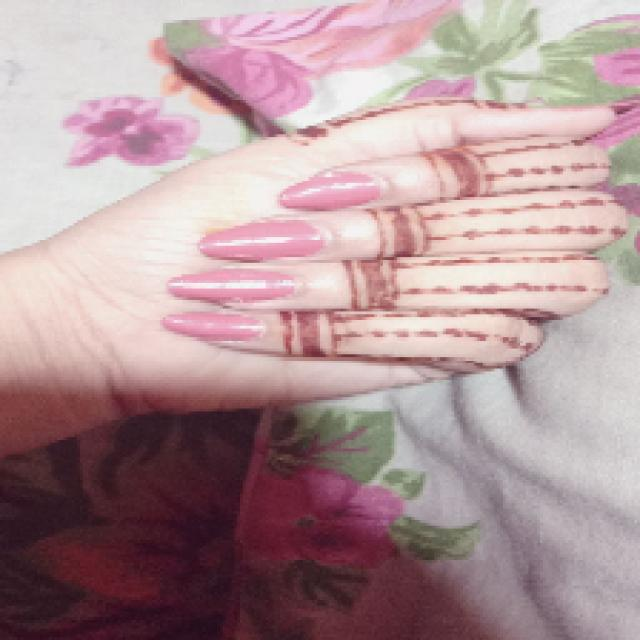Nail: (199, 220, 325, 260), (168, 270, 295, 302), (280, 172, 380, 209), (162, 311, 265, 340)
